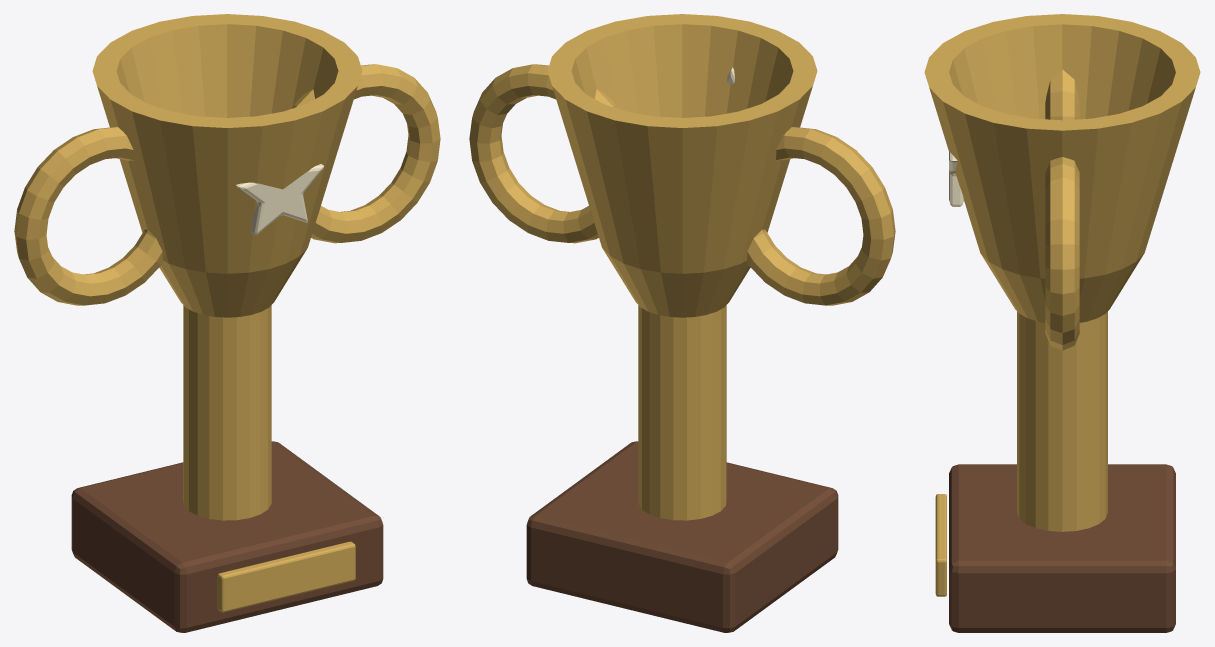
Rendered from P050_trophy_cup.glb.
3 views of the same model, side by side, from view 1: azimuth 30°, elevation 25°; view 2: azimuth 150°, elevation 25°; view 3: azimuth 270°, elevation 25° (orthographic). The views are drawn at different scales.
Parts seen in each view (by area): view 1: P050_cup_004, P050_base_001, P050_stem_003, P050_handle_005, P050_handle_006, P050_plaque_002, P050_emblem_007; view 2: P050_cup_004, P050_base_001, P050_stem_003, P050_handle_005, P050_handle_006; view 3: P050_cup_004, P050_base_001, P050_stem_003, P050_handle_006, P050_handle_005, P050_plaque_002, P050_emblem_007.
Part boxes in pixels (x1=…): P050_cup_004: x1=92, y1=14, x2=362, y2=317; P050_base_001: x1=71, y1=441, x2=383, y2=632; P050_stem_003: x1=183, y1=305, x2=271, y2=520; P050_handle_005: x1=14, y1=127, x2=163, y2=305; P050_handle_006: x1=291, y1=64, x2=440, y2=243; P050_plaque_002: x1=217, y1=541, x2=355, y2=612; P050_emblem_007: x1=236, y1=164, x2=323, y2=235; P050_cup_004: x1=547, y1=14, x2=817, y2=317; P050_base_001: x1=526, y1=441, x2=838, y2=632; P050_stem_003: x1=638, y1=305, x2=726, y2=520; P050_handle_005: x1=746, y1=127, x2=895, y2=305; P050_handle_006: x1=469, y1=64, x2=618, y2=243; P050_cup_004: x1=924, y1=14, x2=1200, y2=322; P050_base_001: x1=949, y1=464, x2=1175, y2=632; P050_stem_003: x1=1017, y1=311, x2=1107, y2=531; P050_handle_006: x1=1045, y1=157, x2=1079, y2=350; P050_handle_005: x1=1045, y1=69, x2=1079, y2=120; P050_plaque_002: x1=935, y1=494, x2=946, y2=596; P050_emblem_007: x1=949, y1=152, x2=963, y2=206.
Bounding box in the file's own units: 0.264 × 0.299 × 0.146.
